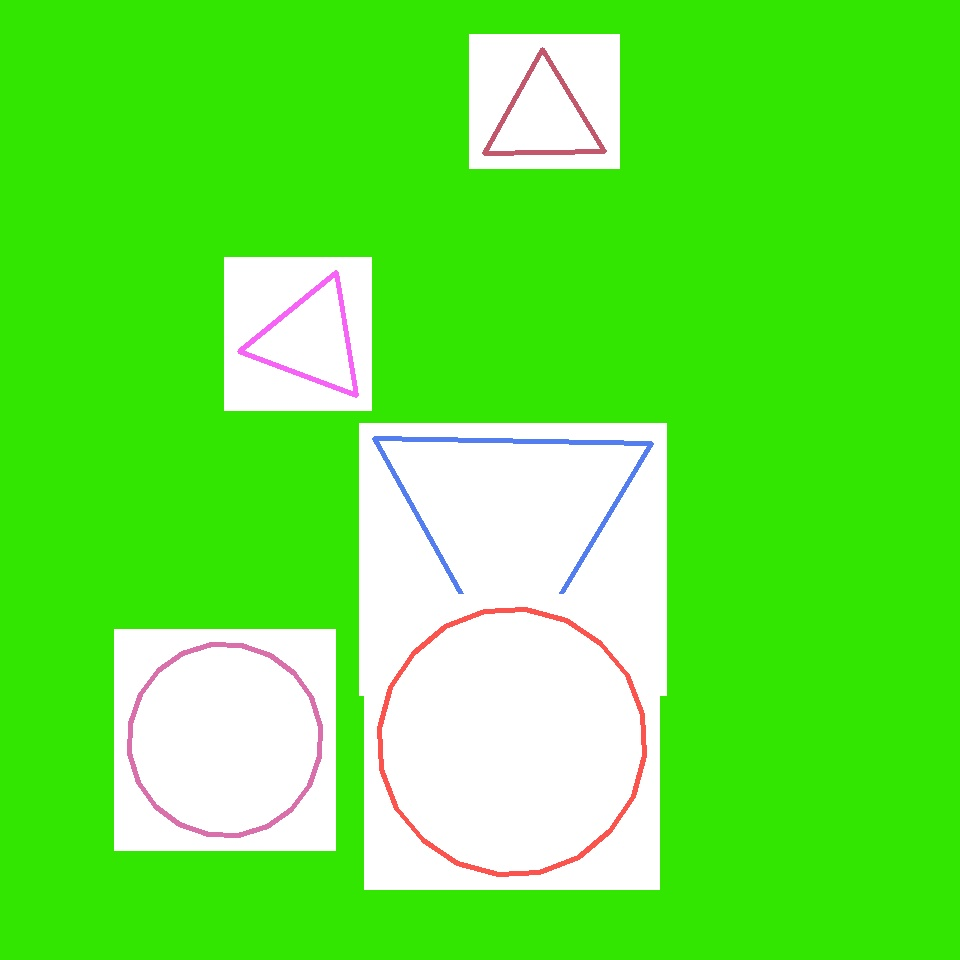circle: (36, 57, 338, 362), (378, 168, 638, 450), (374, 400, 650, 642), (253, 279, 370, 402), (484, 66, 604, 170)
square: (6, 550, 310, 854), (288, 38, 548, 296)
triangle: (192, 48, 571, 426), (379, 610, 644, 875), (130, 644, 320, 836)
